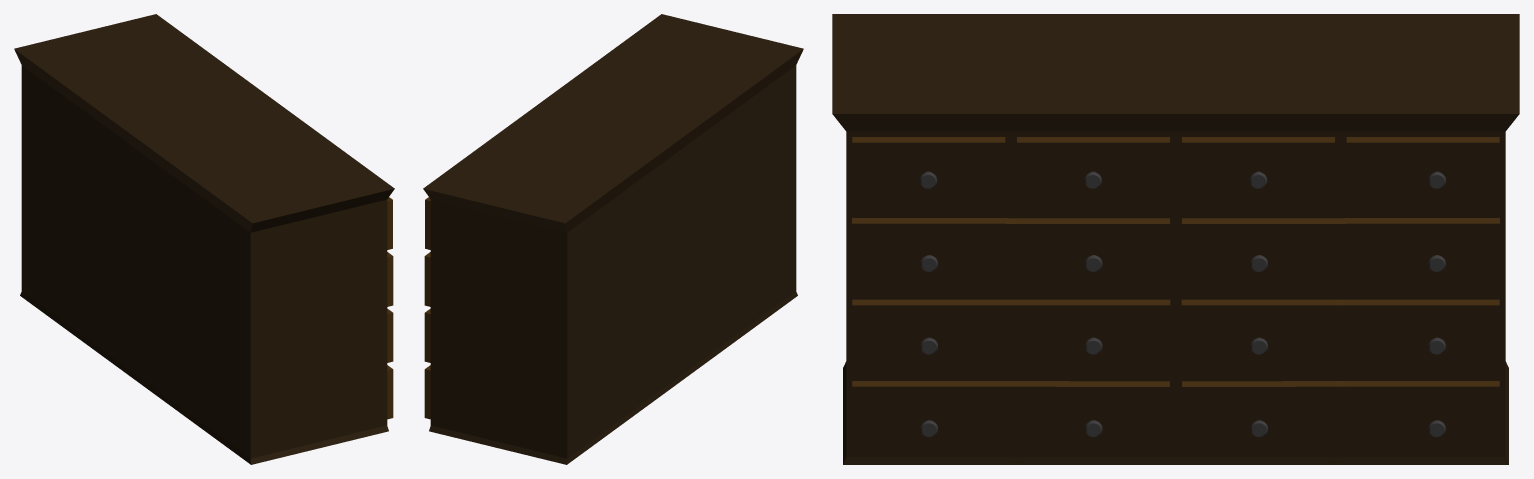
File: Dresser.fbx
3 renders of one model, left to right at view 1: azimuth 30°, elevation 25°; view 2: azimuth 150°, elevation 25°; view 3: azimuth 270°, elevation 25°, orthographic. The views are drawn at different scales.
Parts seen in each view (by area): view 1: Dresser; view 2: Dresser; view 3: Dresser.
Boxes of the visible parts, left/top/right/bottom form: Dresser: left=14, top=14, right=394, bottom=464; Dresser: left=423, top=14, right=803, bottom=464; Dresser: left=832, top=14, right=1519, bottom=464.
Bounding box in the file's own units: 107 × 162 × 286.
